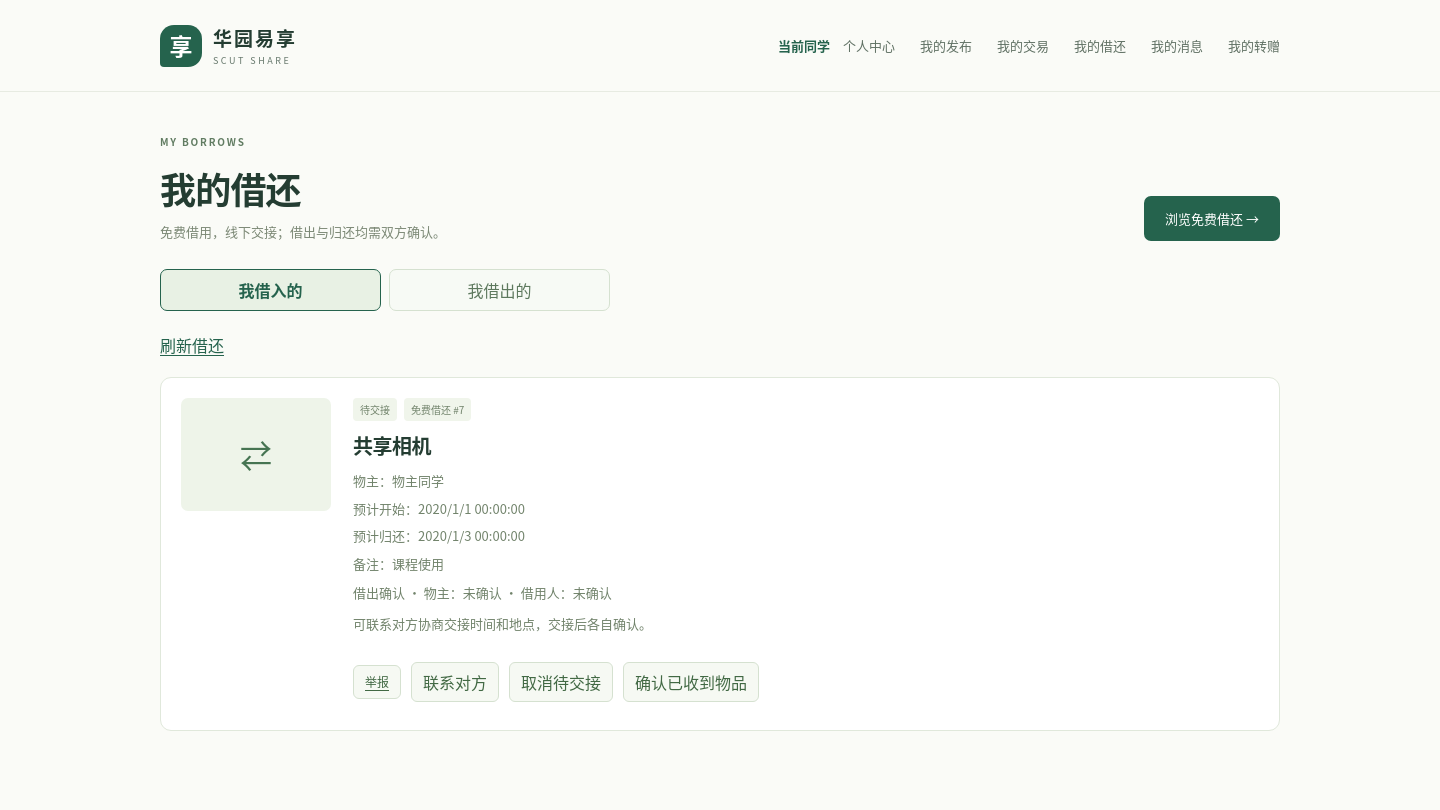
Test: 借用人交接与归还确认各等待另一方，逾期不改变状态，归还后保留历史
Click the button "确认已收到物品".
click(691, 682)  # box [623,662,759,702]
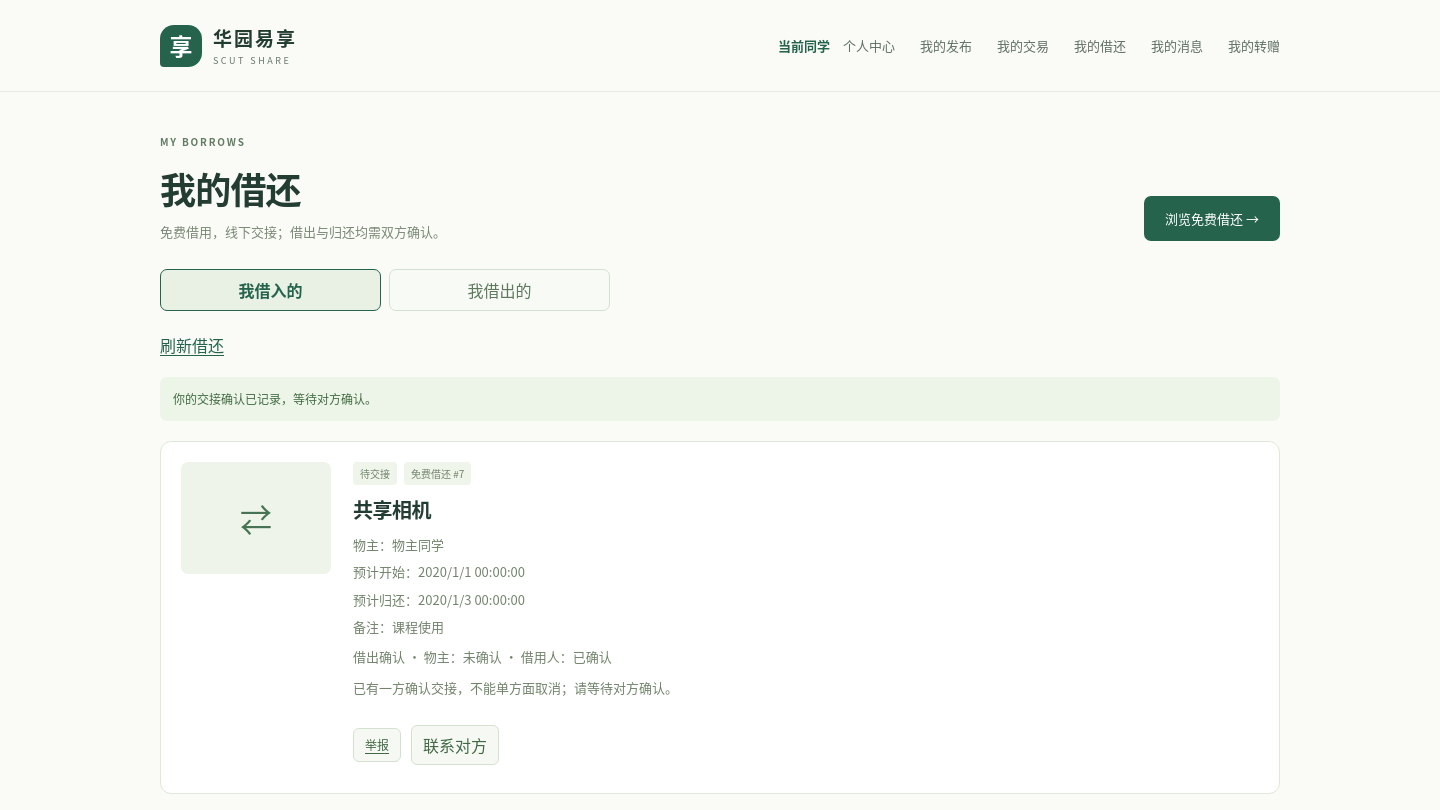
Expected: the button "确认已归还物品" is not shown
Expected: the text "你的交接确认已记录，等待对方确认。" is shown, [160,377,1280,421]
Expected: the text "借出确认 · 物主：未确认 · 借用人：已确认" is shown, [353,647,612,666]
Click the button "刷新借还".
click(192, 345)  # box [160,333,224,357]
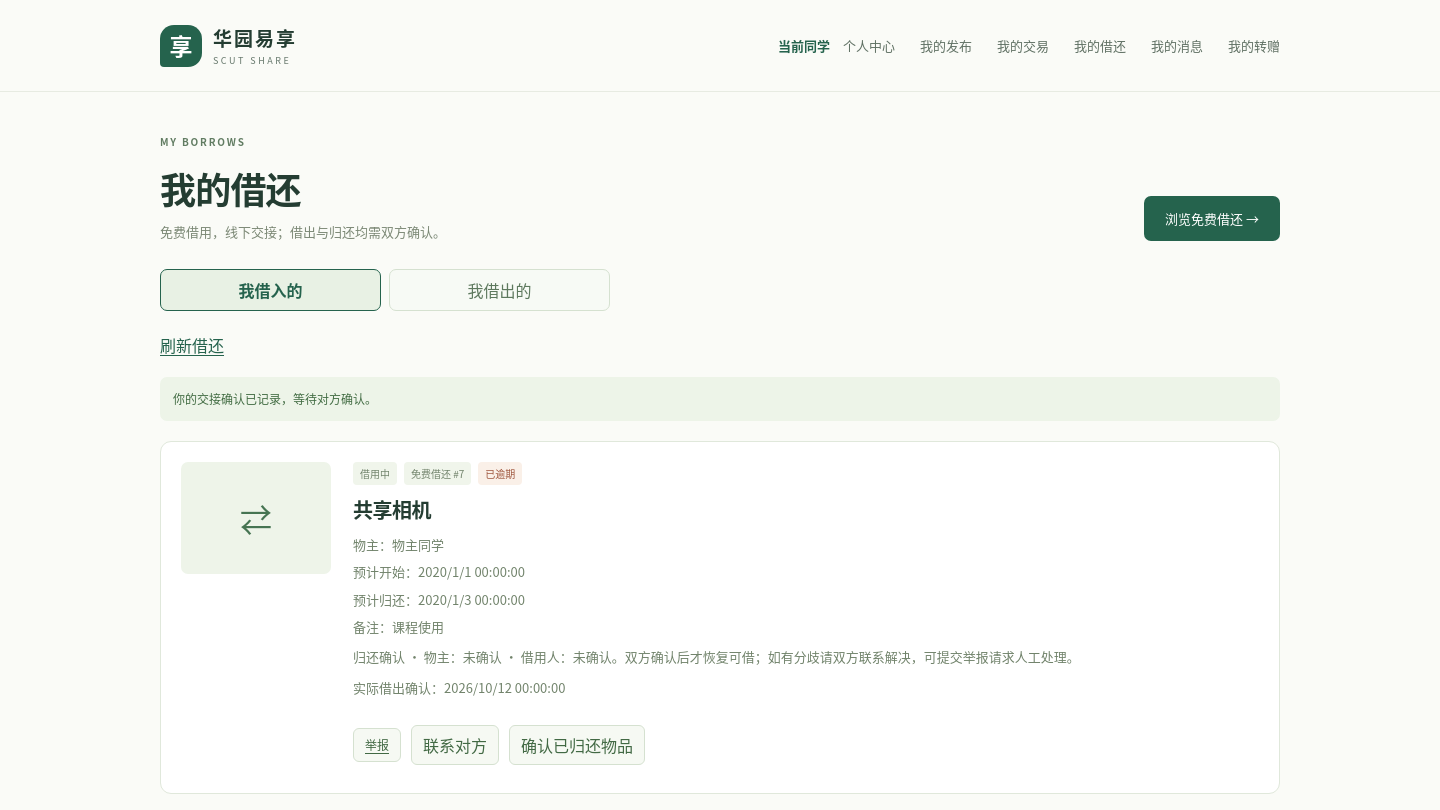
Expected: the text "已逾期" is shown, [478,462,522,485]
Expected: the text "借用中" is shown, [353,462,397,485]
Click the button "确认已归还物品".
click(577, 746)  # box [509,726,645,766]
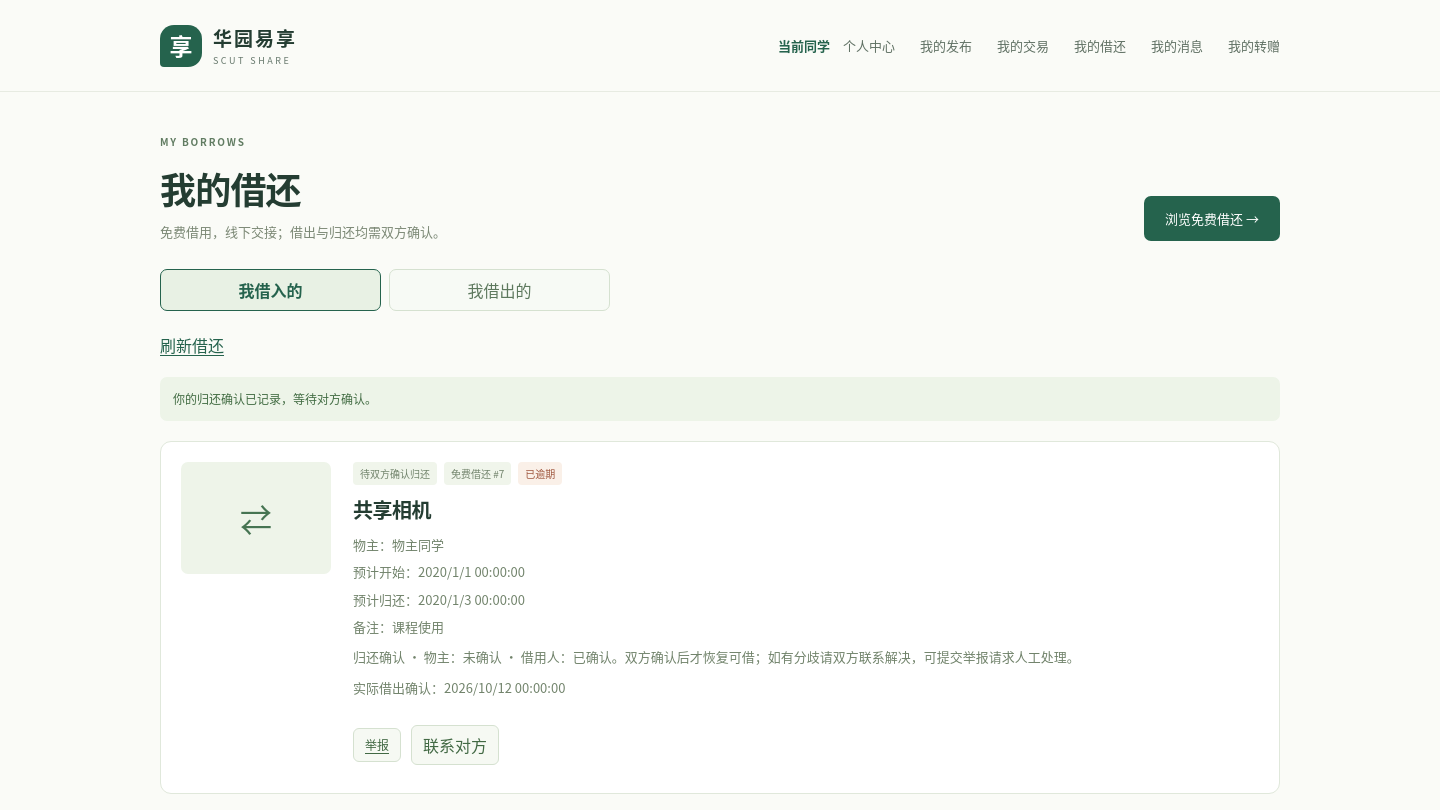
Expected: the text "你的归还确认已记录，等待对方确认。" is shown, [160,377,1280,421]
Expected: the text "待双方确认归还" is shown, [353,462,437,485]
Expected: the button "确认已归还物品" is gone
Click the button "刷新借还".
click(192, 345)  # box [160,333,224,357]
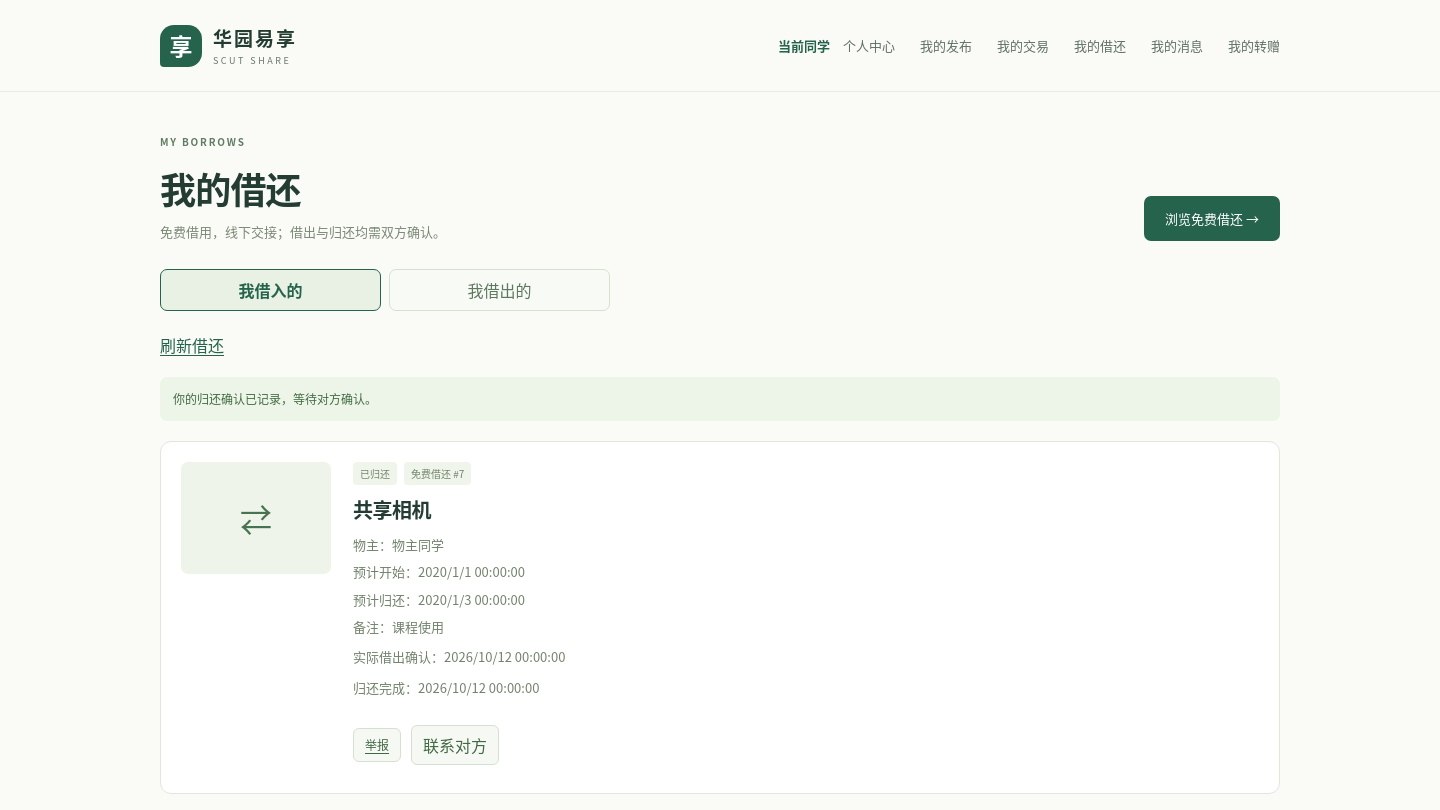
Expected: the text "已归还" is shown, [353,462,397,485]
Expected: the text "归还完成：2026/10/12 00:00:00" is shown, [353,678,539,697]
Expected: the text "已逾期" is gone
